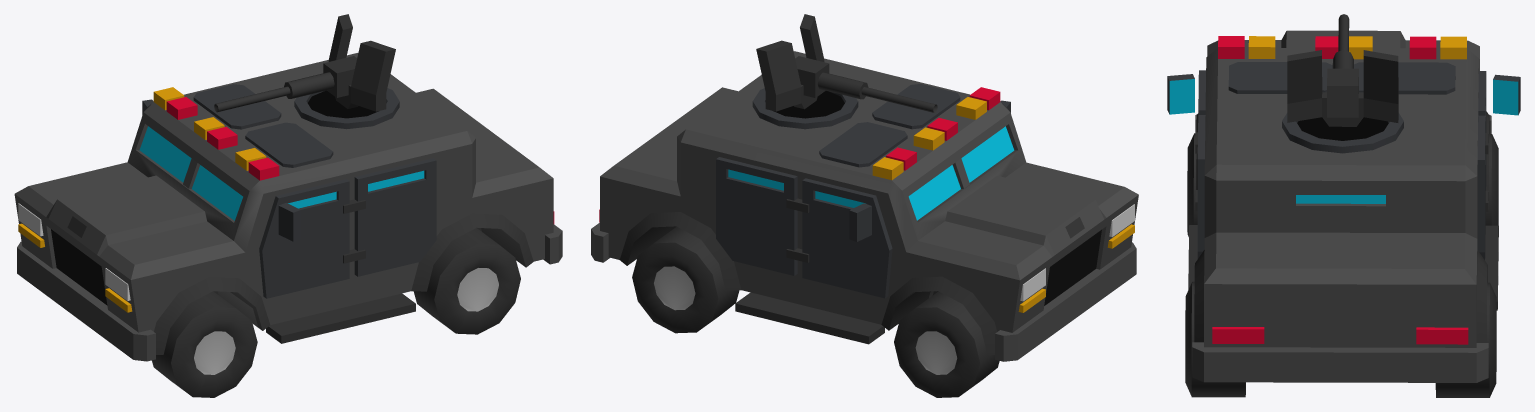
Rendered from armored_car.fbx.
The picture shows the model from 3 angles, left to right: view 1: azimuth 30°, elevation 25°; view 2: azimuth 150°, elevation 25°; view 3: azimuth 270°, elevation 25°; orthographic projection. The views are drawn at different scales.
Visible parts, largest first — view 1: armored_car, wheel_2, wheel_3, gun; view 2: armored_car, wheel_1, wheel_4, gun; view 3: armored_car, gun, wheel_2, wheel_1, wheel_4, wheel_3.
Boxes of the visible parts, box(x1,y1,x2,y2) form: armored_car: box(14, 53, 562, 361); wheel_2: box(413, 228, 520, 334); wheel_3: box(152, 291, 257, 397); gun: box(214, 14, 395, 112); armored_car: box(591, 51, 1138, 361); wheel_1: box(632, 226, 739, 333); wheel_4: box(894, 291, 999, 397); gun: box(756, 14, 937, 112); armored_car: box(1167, 30, 1520, 382); gun: box(1287, 14, 1398, 126); wheel_2: box(1185, 281, 1245, 397); wheel_1: box(1435, 282, 1496, 397); wheel_4: box(1485, 134, 1498, 225); wheel_3: box(1187, 133, 1197, 236).
Size of the model in its own units: 703 by 413 by 430.
